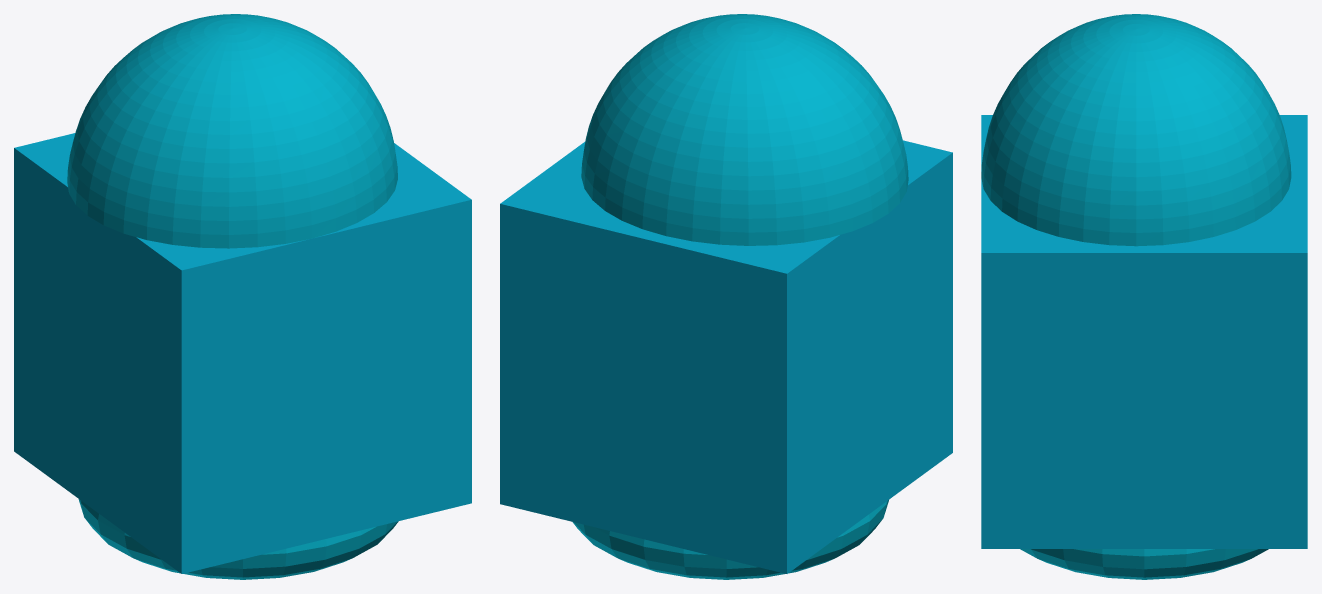
The model's file is Player.glb.
The picture shows the model from 3 angles, left to right: view 1: azimuth 30°, elevation 25°; view 2: azimuth 150°, elevation 25°; view 3: azimuth 270°, elevation 25°; orthographic projection. The views are drawn at different scales.
Parts seen in each view (by area): view 1: Mesh_Mesh_head_geo.001_lambert2SG.001; view 2: Mesh_Mesh_head_geo.001_lambert2SG.001; view 3: Mesh_Mesh_head_geo.001_lambert2SG.001.
Boxes of the visible parts, x1,y1,x2,y2 form: Mesh_Mesh_head_geo.001_lambert2SG.001: (14, 14, 471, 579); Mesh_Mesh_head_geo.001_lambert2SG.001: (500, 14, 952, 579); Mesh_Mesh_head_geo.001_lambert2SG.001: (981, 14, 1307, 579).
Size of the model in its own units: 21 by 33 by 20.
